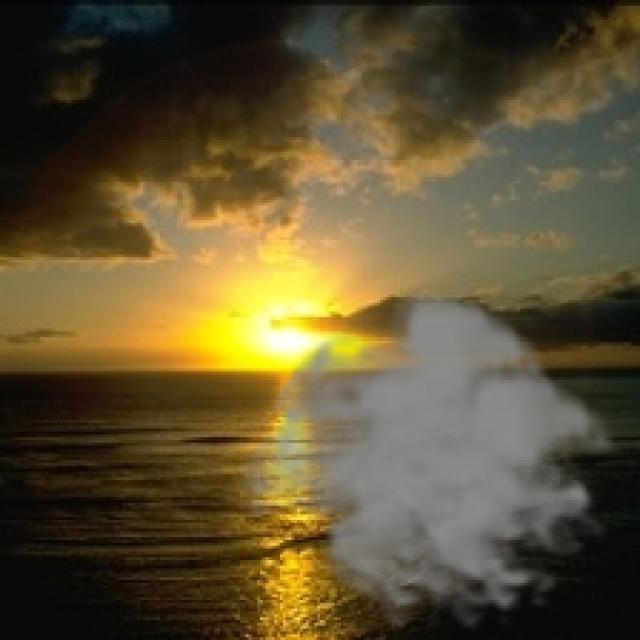Smoke: (232, 286, 632, 632)
